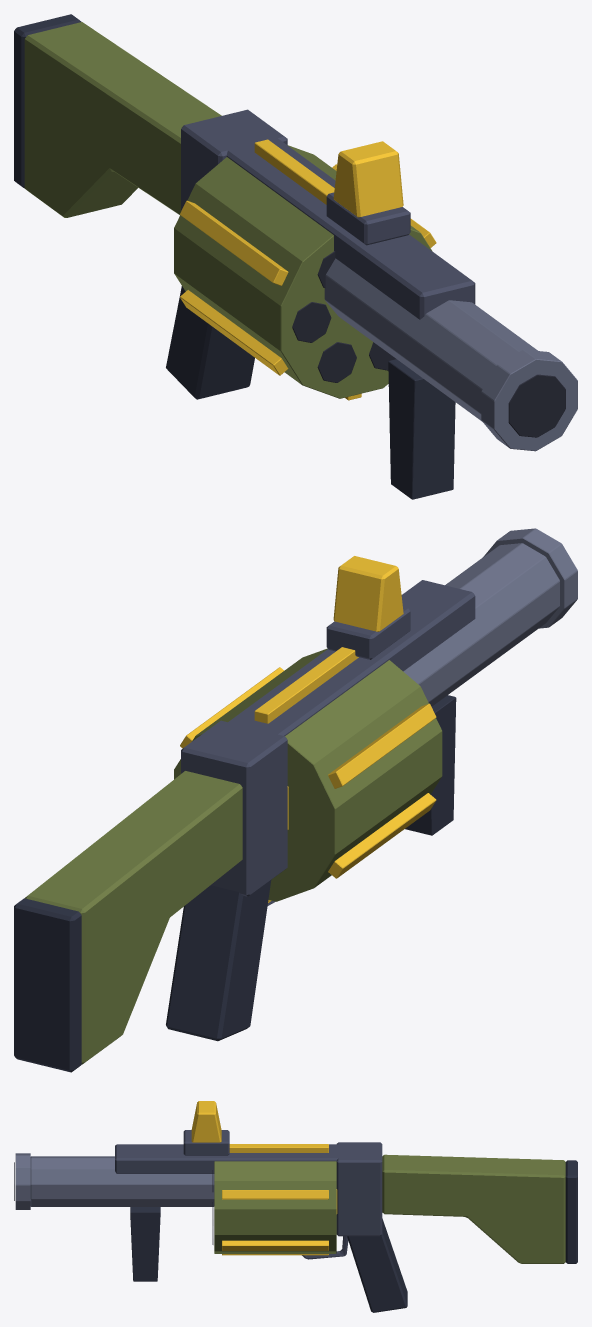
Rendered from myw_grenadelauncher.glb.
The picture shows the model from 3 angles, top to bottom: view 1: azimuth 30°, elevation 25°; view 2: azimuth 150°, elevation 25°; view 3: azimuth 270°, elevation 25°; orthographic projection. The views are drawn at different scales.
Visible parts, largest first — view 1: Frame, Cylinder, Barrel, Sight; view 2: Frame, Cylinder, Barrel, Sight; view 3: Frame, Cylinder, Barrel, Sight.
Boxes of the visible parts, left/top/right/bottom form: Frame: left=14, top=14, right=475, bottom=399; Cylinder: left=174, top=139, right=436, bottom=400; Barrel: left=324, top=258, right=577, bottom=499; Sight: left=326, top=141, right=410, bottom=245; Frame: left=14, top=580, right=475, bottom=1072; Cylinder: left=174, top=647, right=442, bottom=902; Barrel: left=403, top=528, right=577, bottom=835; Sight: left=326, top=556, right=410, bottom=659; Frame: left=115, top=1142, right=577, bottom=1312; Cylinder: left=212, top=1144, right=336, bottom=1255; Barrel: left=14, top=1153, right=214, bottom=1281; Sight: left=183, top=1101, right=229, bottom=1155.
Size of the model in its own units: 0.703 by 1.44 by 3.69.
